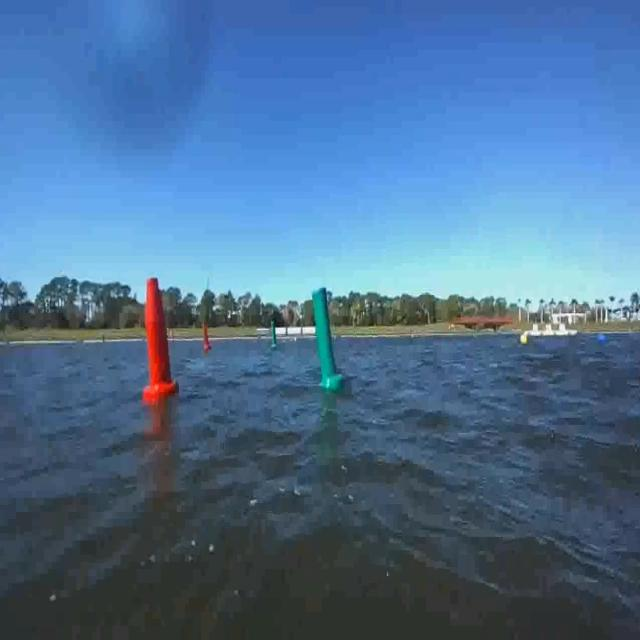blue-buoy: (594, 332, 605, 350)
green-column-buoy: (308, 287, 345, 392), (270, 320, 280, 350)
red-column-buoy: (142, 274, 178, 402), (202, 324, 212, 352)
yellow-buoy: (521, 334, 529, 348)
